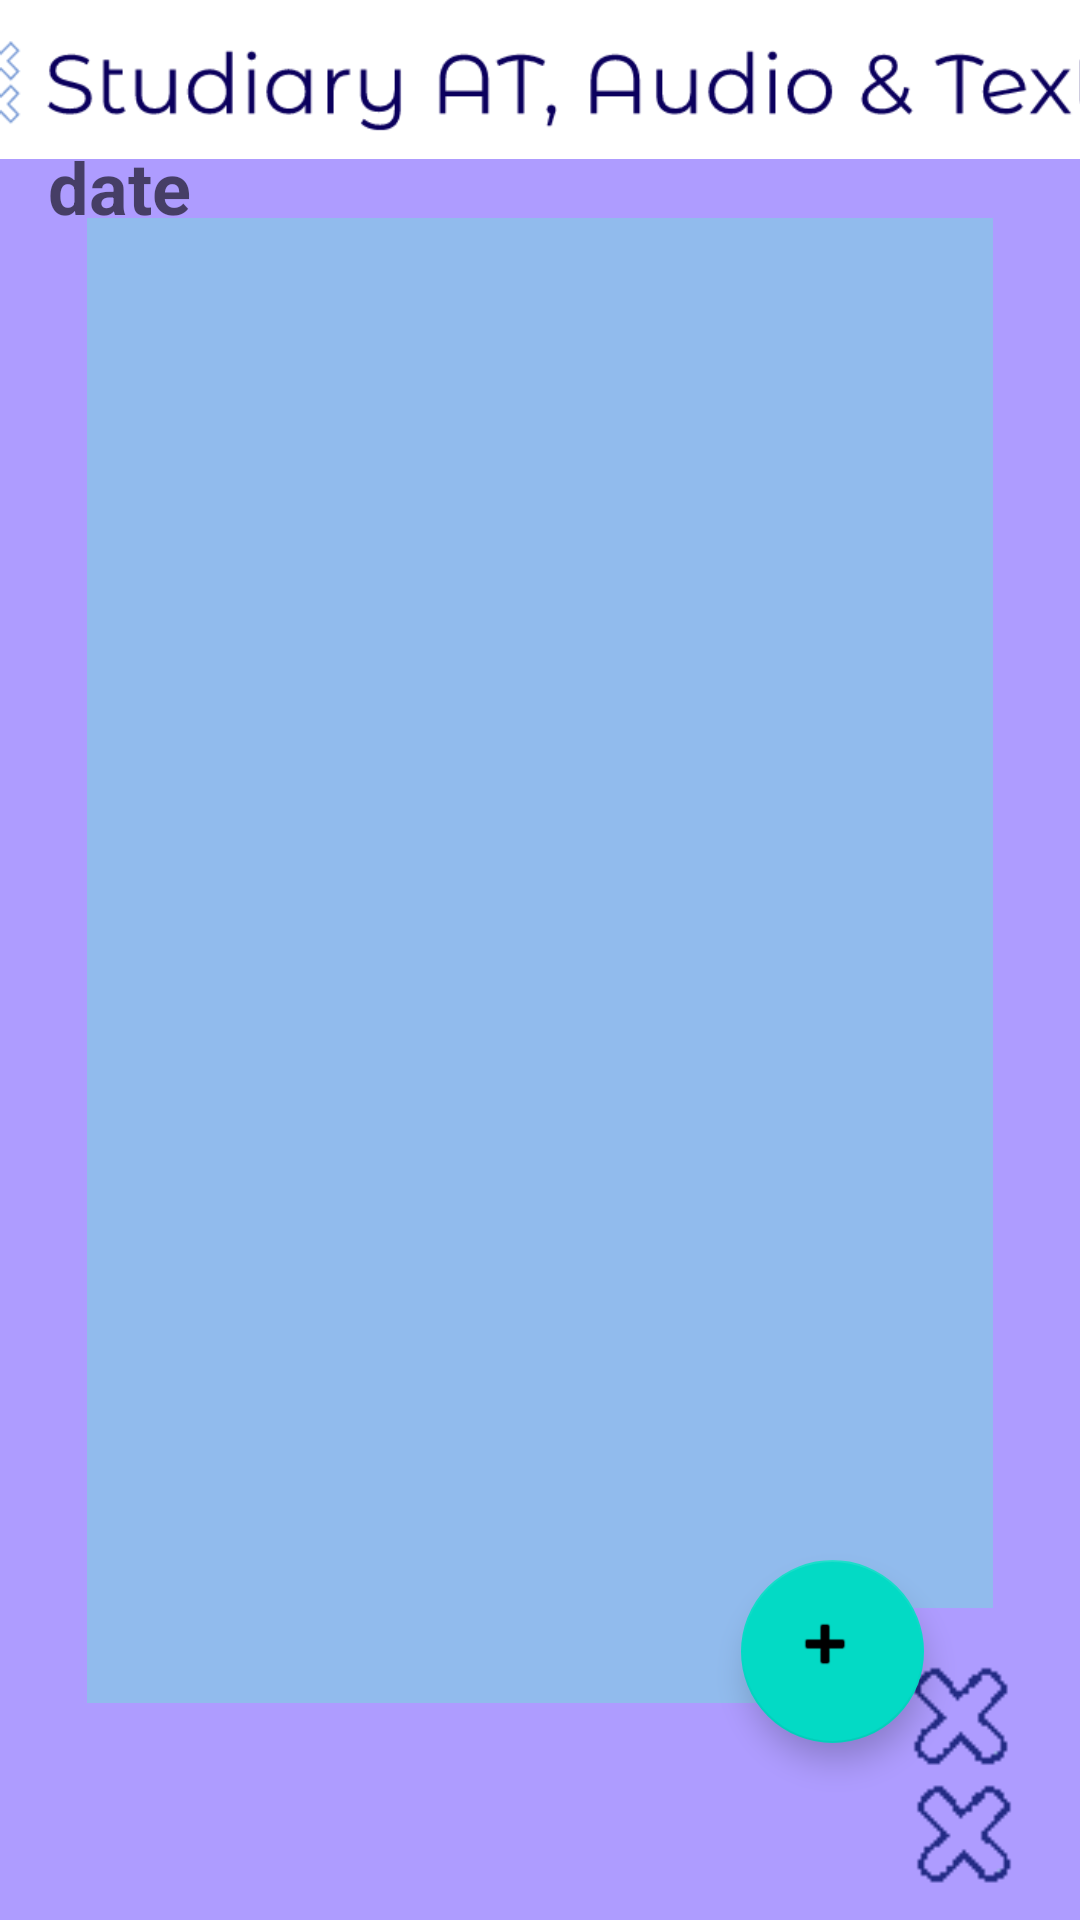

Screen size 1080 × 1920. Icon name, then its center in pixels as (x,y):
floatingbutton: (832,1651)
